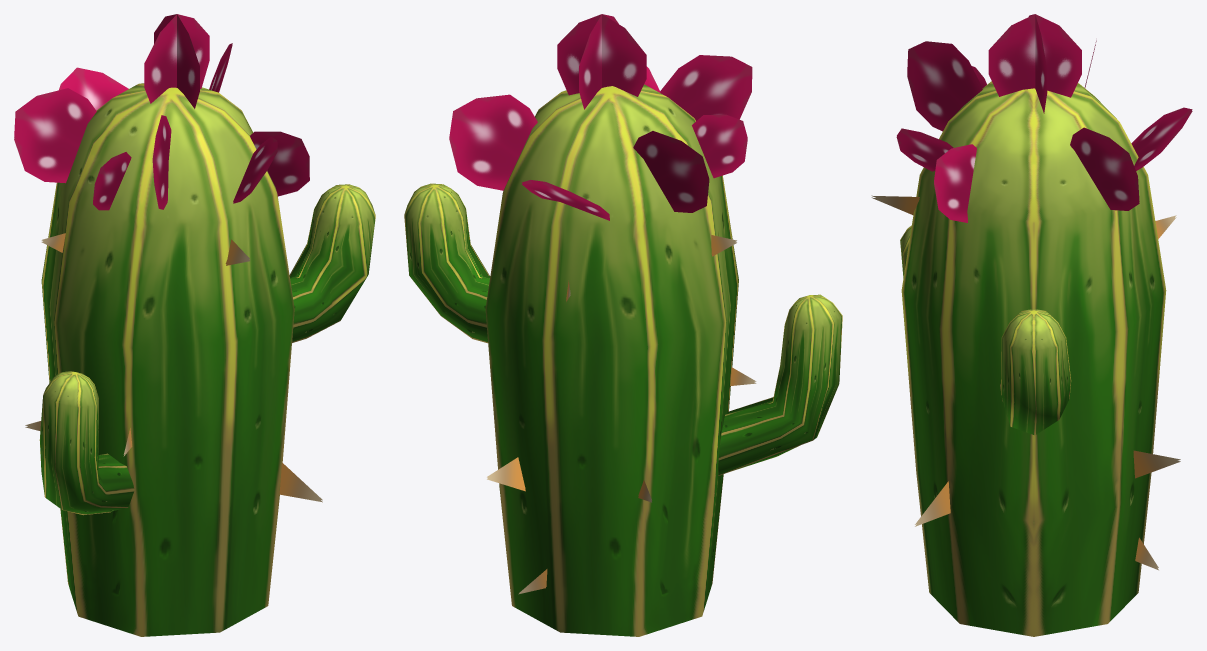
The model's file is rc_03_plt_01_03.FBX.
The picture shows the model from 3 angles, left to right: view 1: azimuth 30°, elevation 25°; view 2: azimuth 150°, elevation 25°; view 3: azimuth 270°, elevation 25°; orthographic projection.
Parts seen in each view (by area): view 1: Plane025; view 2: Plane025; view 3: Plane025.
Boxes of the visible parts, x1=… form: Plane025: x1=14, y1=14, x2=375, y2=636; Plane025: x1=404, y1=14, x2=842, y2=636; Plane025: x1=871, y1=14, x2=1192, y2=636.
Bounding box in the file's own units: 663 × 484 × 970.
